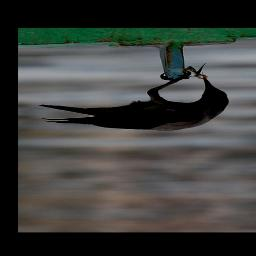Crow: (38, 71, 230, 132)
